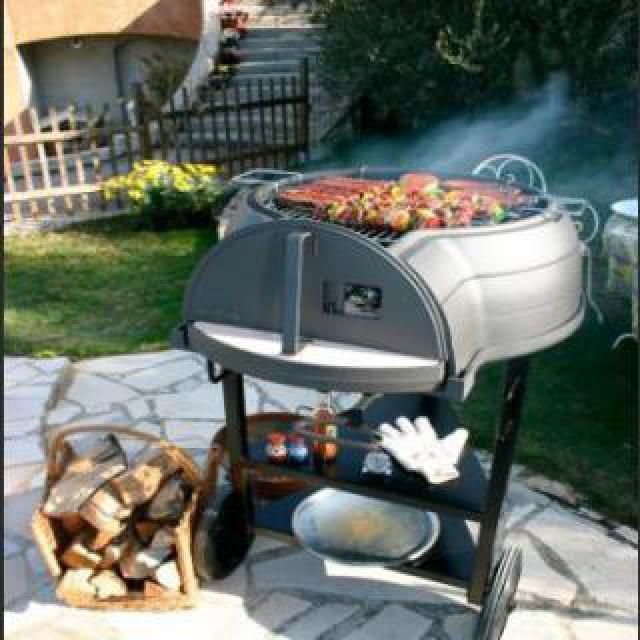Smoke: (418, 76, 580, 178)
